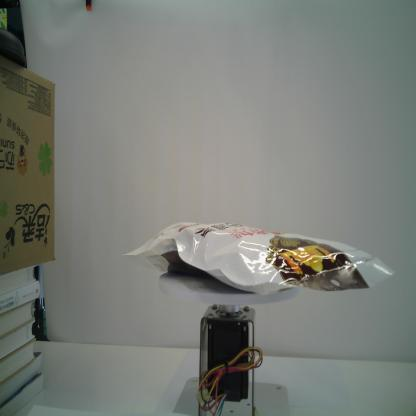Dried Food: (124, 220, 397, 297)
